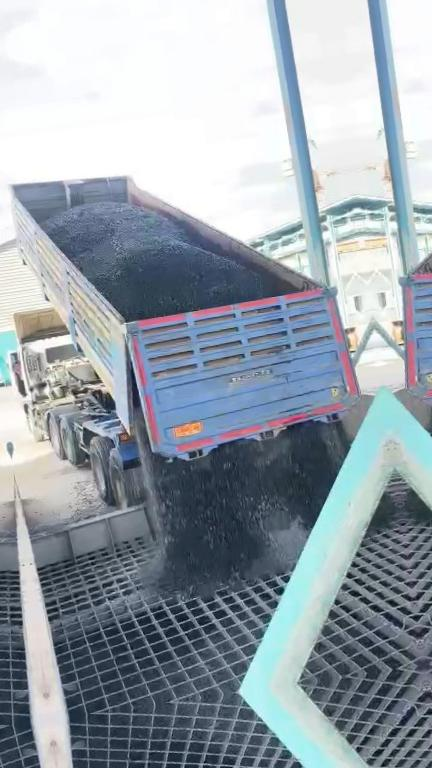gravel: (136, 408, 349, 597), (43, 202, 271, 320)
